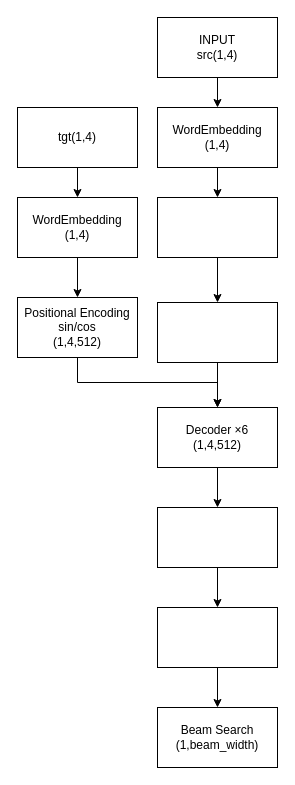
This 295x785 diagram has some shape labels left out. Here are the shapes that lost their labels. From the top down, the centre of each, then its label:
At pixel 217 227: "Positonal Encoding sin/cos (1,4,512)".
At pixel 217 332: "Encoder ×6 memory(1,4,512)".
At pixel 217 537: "LM Head (1,4,9)".
At pixel 217 637: "softmax (1,4,9)".
